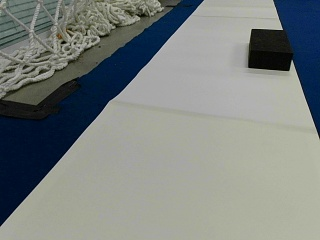block: (247, 28, 292, 70)
